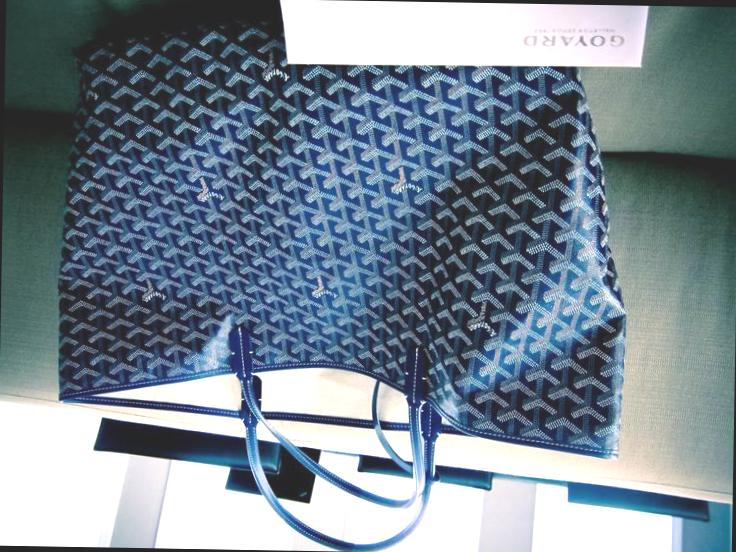GOYARD: (53, 44, 629, 452)
